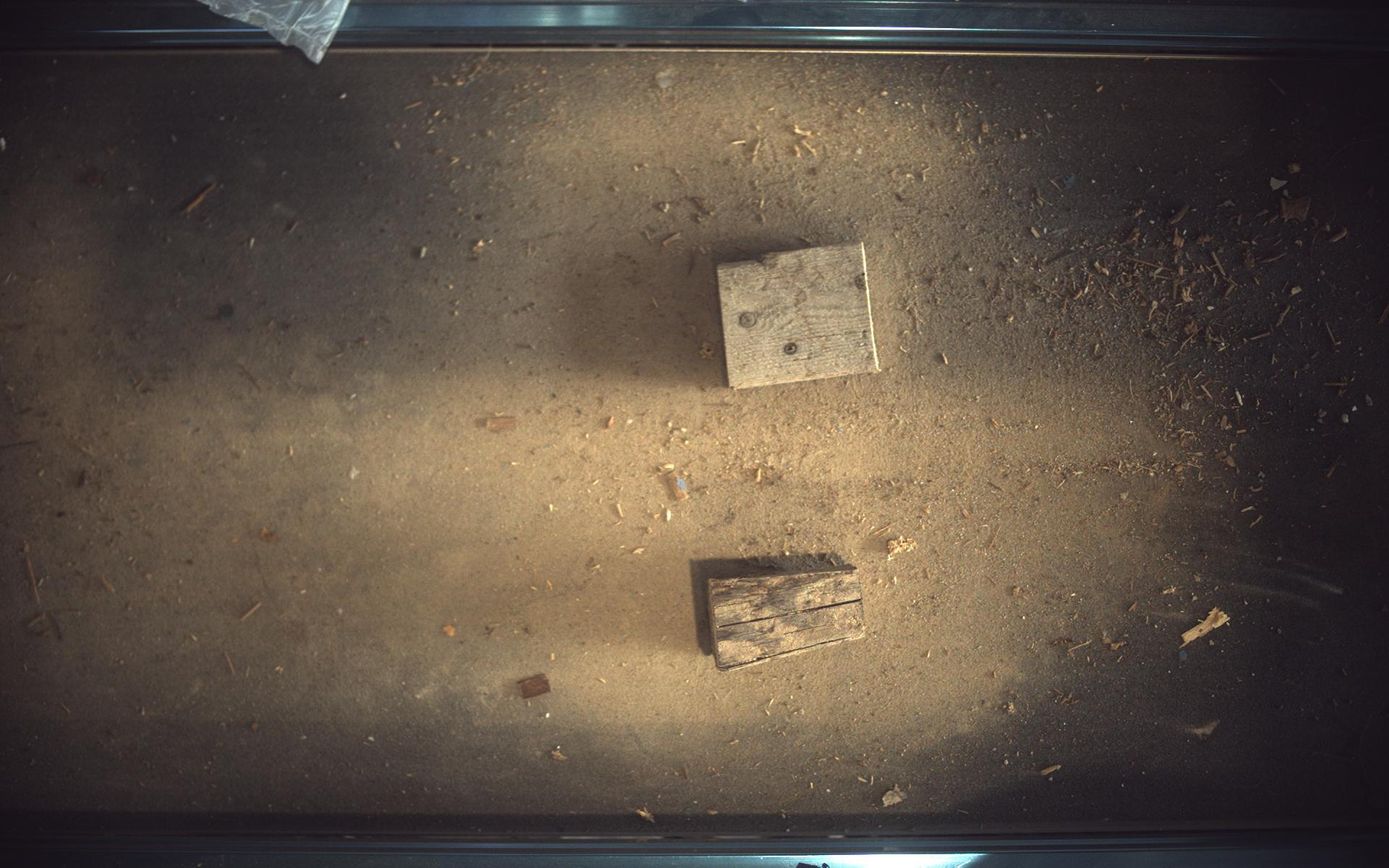wood: (719, 242, 880, 388), (694, 553, 867, 671)
